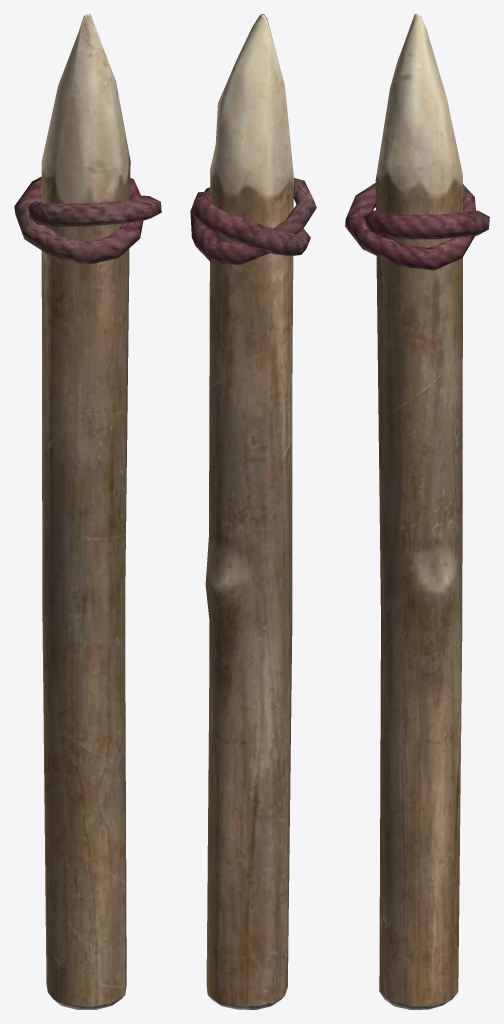
3 views of the same model, side by side, from view 1: azimuth 90°, elevation 25°; view 2: azimuth 210°, elevation 25°; view 3: azimuth 270°, elevation 25° (orthographic).
Parts seen in each view (by area): view 1: SM_Garou_Set_SM_SpikeRope_04_01_LOD0; view 2: SM_Garou_Set_SM_SpikeRope_04_01_LOD0; view 3: SM_Garou_Set_SM_SpikeRope_04_01_LOD0.
Boxes of the visible parts, bbox=[...] form: SM_Garou_Set_SM_SpikeRope_04_01_LOD0: bbox=[14, 14, 161, 1009]; SM_Garou_Set_SM_SpikeRope_04_01_LOD0: bbox=[190, 14, 316, 1009]; SM_Garou_Set_SM_SpikeRope_04_01_LOD0: bbox=[345, 14, 489, 1009].
Size of the model in its own units: 0.2294 by 1.98 by 0.267.
2 materials, 2 textured.
